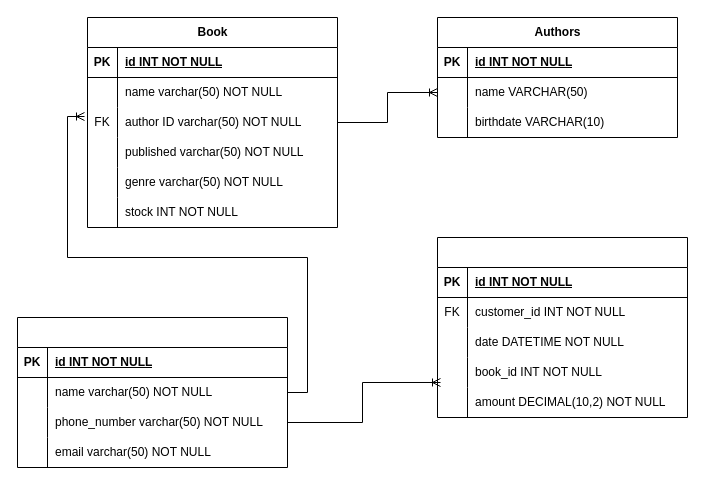
Image size: 705x485. Some labels were removed from this diagram. Each missing label, with the box of its shape:
Customers: (16, 316, 288, 468)
Transactions: (436, 236, 688, 418)
